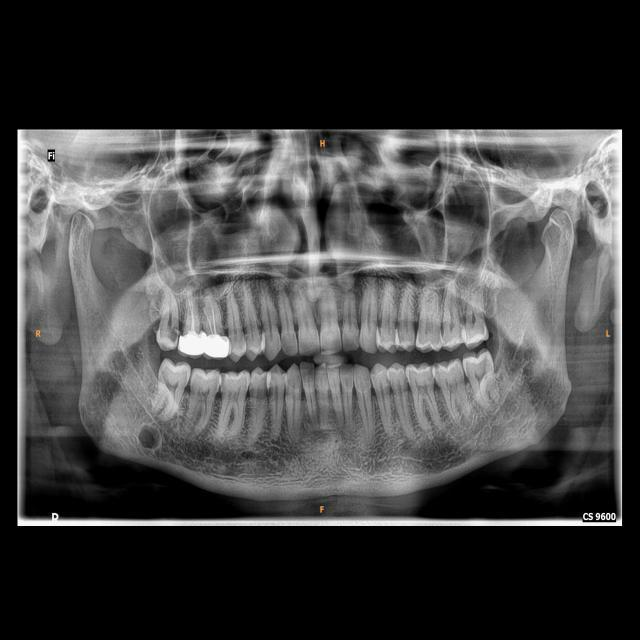kanal-tedavisi: (184, 289, 204, 333), (202, 294, 224, 332)
kaplama: (204, 326, 230, 360), (175, 328, 205, 356)
kok-enfeksiyonu: (132, 417, 173, 458)
